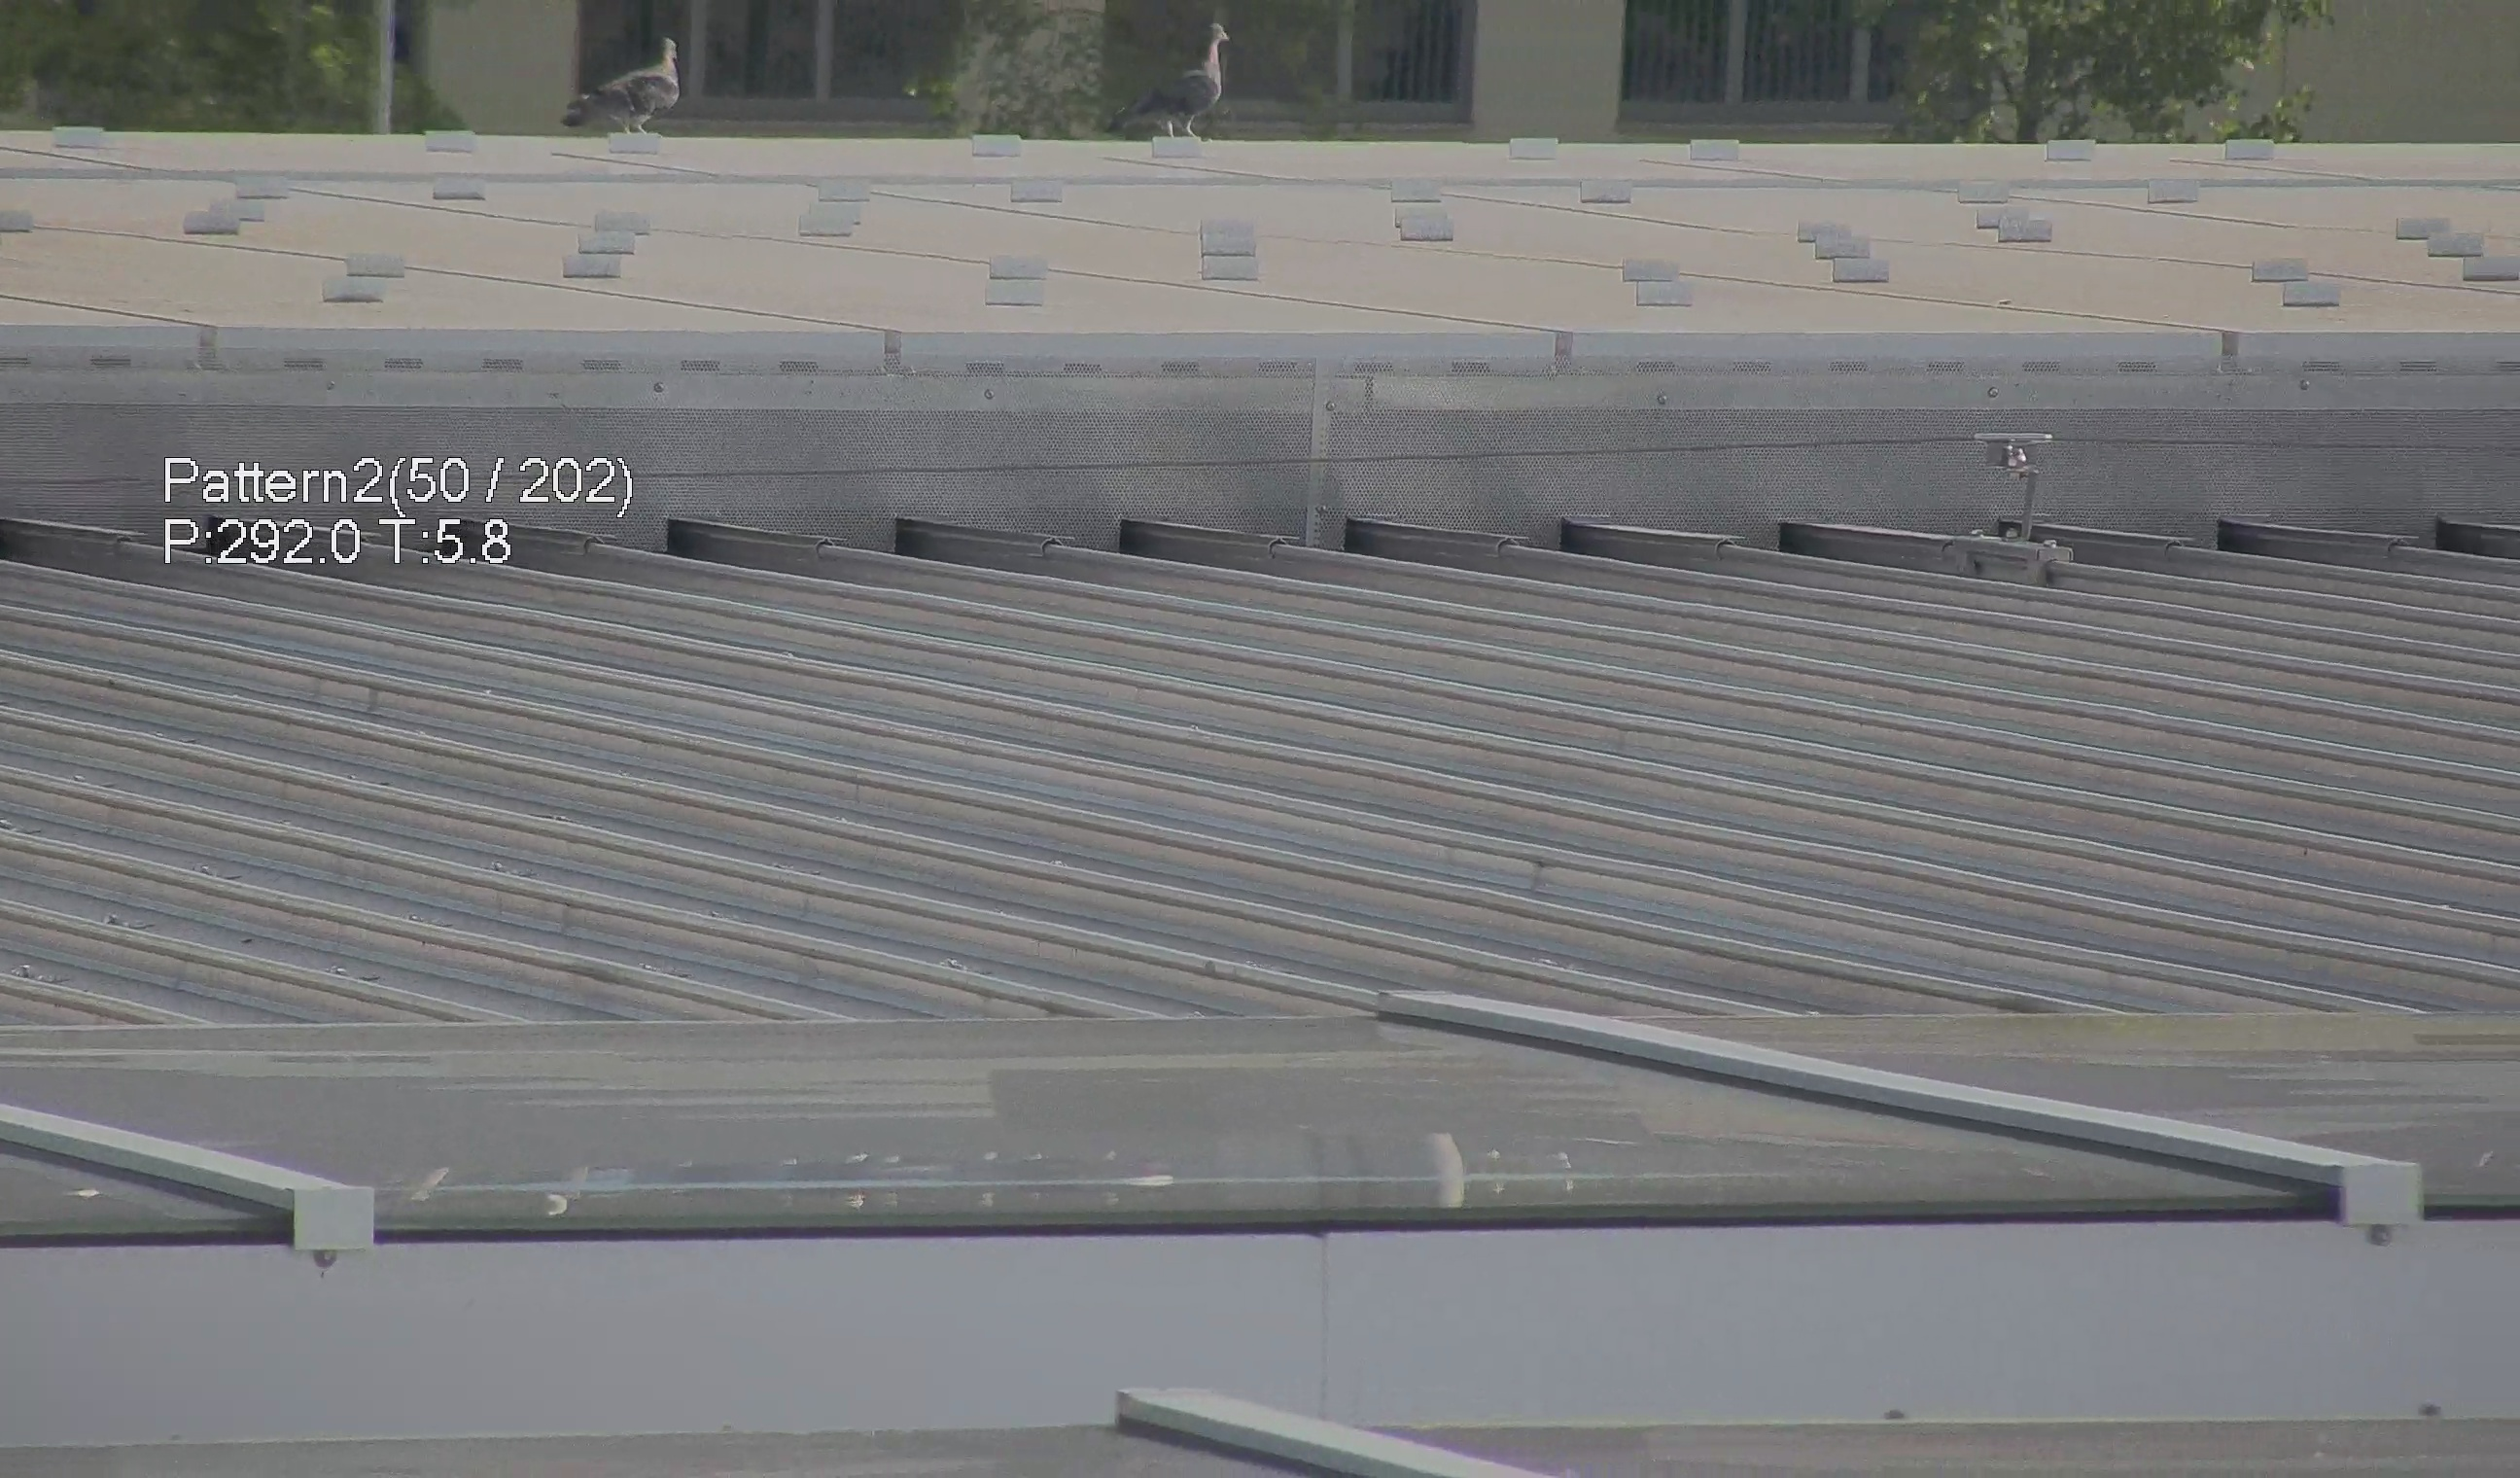Pigeon: (1097, 7, 1235, 135), (543, 25, 674, 134)
